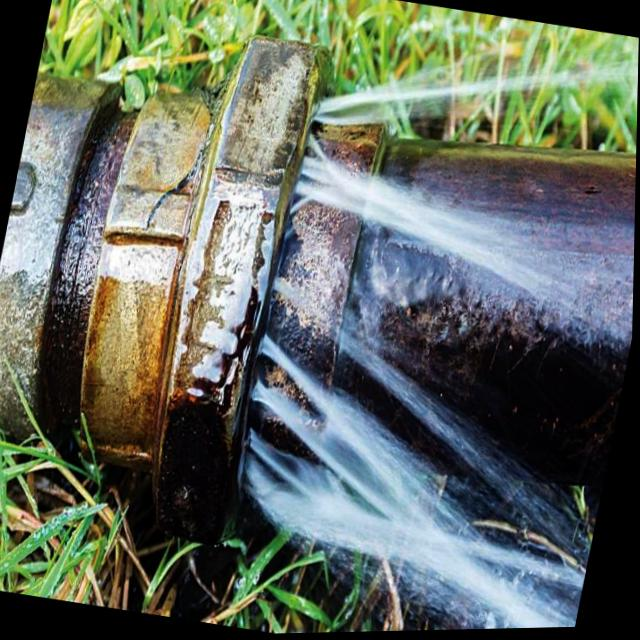leak: (235, 31, 639, 630)
